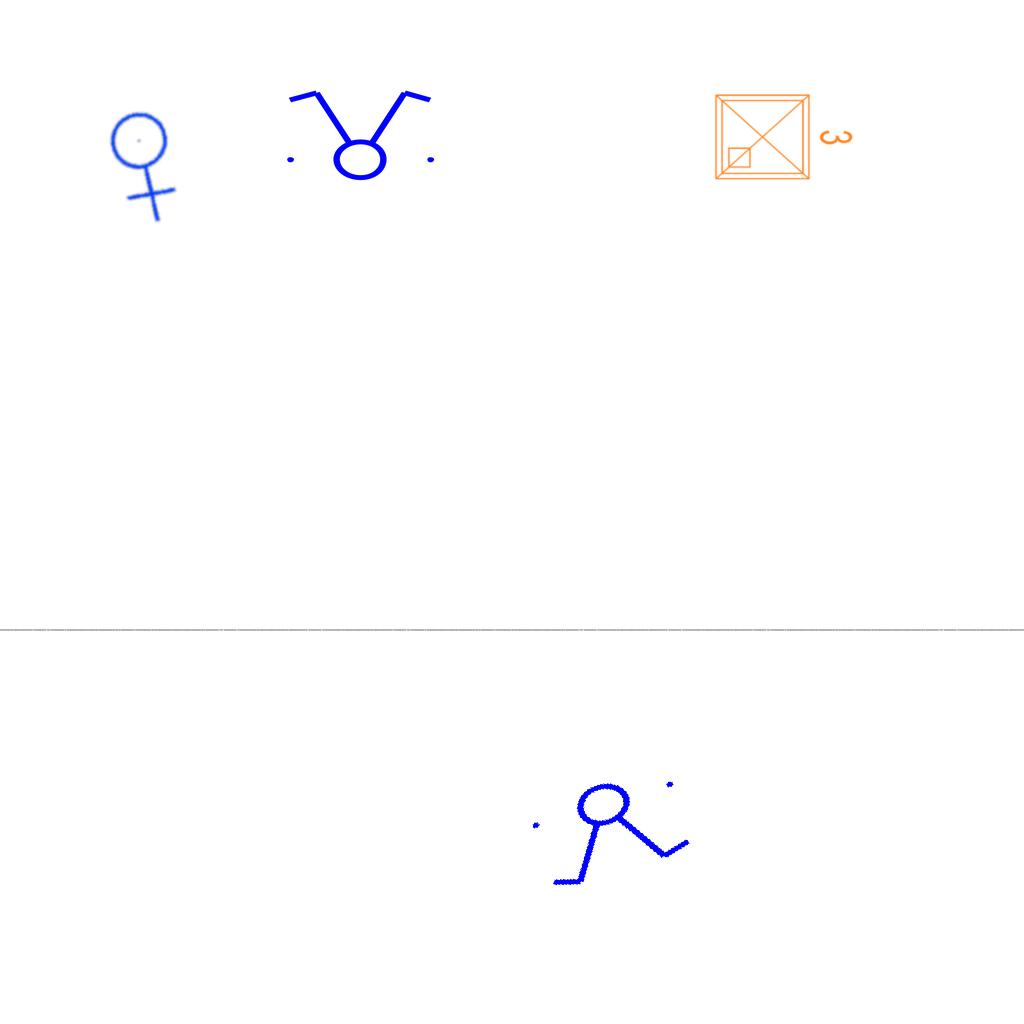Einbaudownlights_LED_Konferenzraeume: (708, 83, 858, 187)
Elektroanschluss_allgemein_230V_Geraeteanschlussdose_230V: (81, 93, 214, 227)
Serienschalter: (517, 758, 707, 900), (275, 86, 443, 182)
